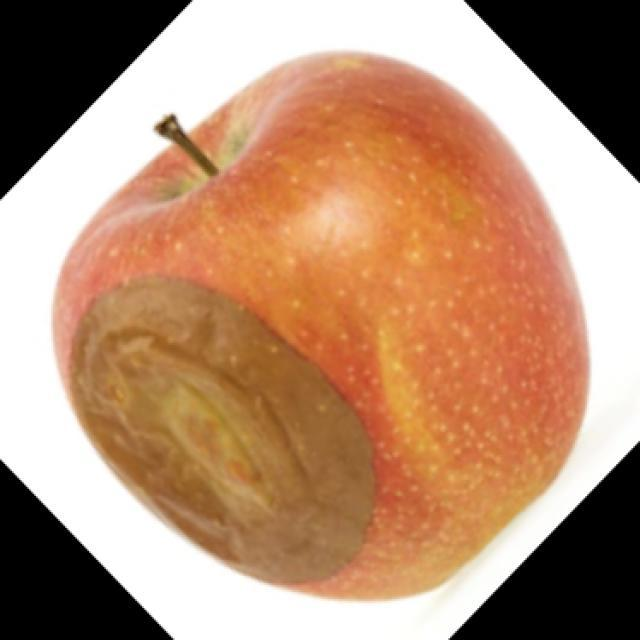Rotten: (70, 59, 585, 588)
